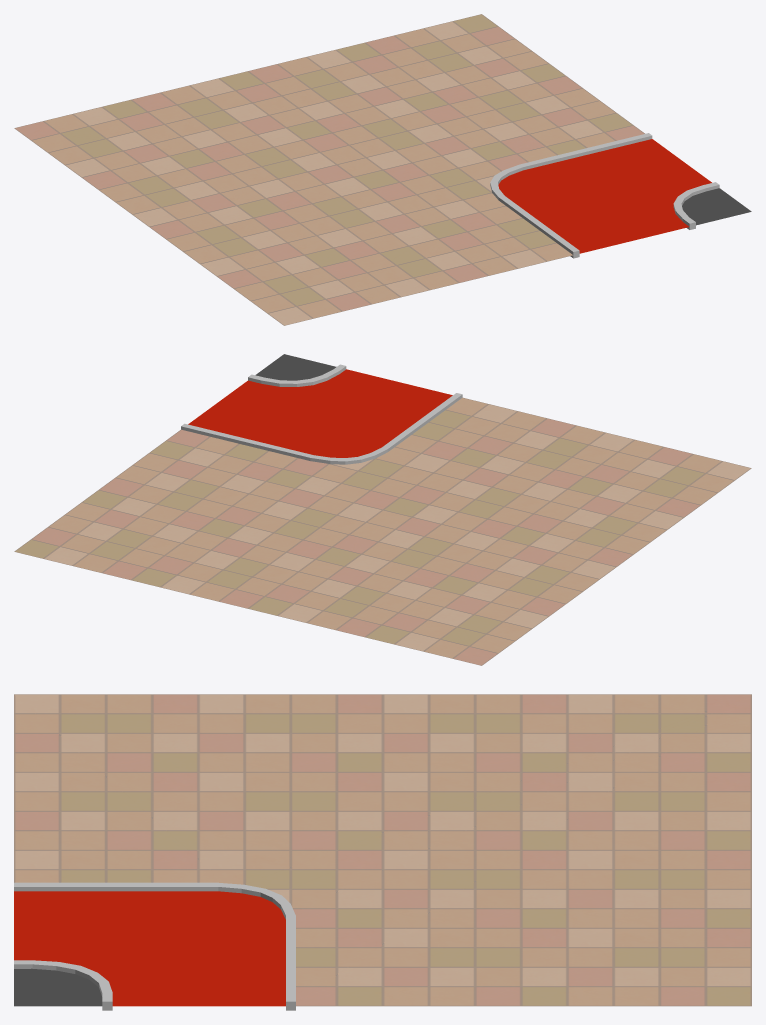
The model's file is Set_C_Tiles_06.fbx.
The picture shows the model from 3 angles, top to bottom: view 1: azimuth 30°, elevation 25°; view 2: azimuth 150°, elevation 25°; view 3: azimuth 270°, elevation 25°; orthographic projection. The views are drawn at different scales.
Parts seen in each view (by area): view 1: Set_C_Tiles_06; view 2: Set_C_Tiles_06; view 3: Set_C_Tiles_06.
Boxes of the visible parts, box(x1,y1,x2,y2) form: Set_C_Tiles_06: box(14, 14, 751, 325); Set_C_Tiles_06: box(14, 354, 751, 665); Set_C_Tiles_06: box(14, 694, 751, 1010).
Size of the model in its own units: 1500 by 1500 by 20.
